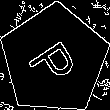P_NE: (24, 30, 84, 89)
